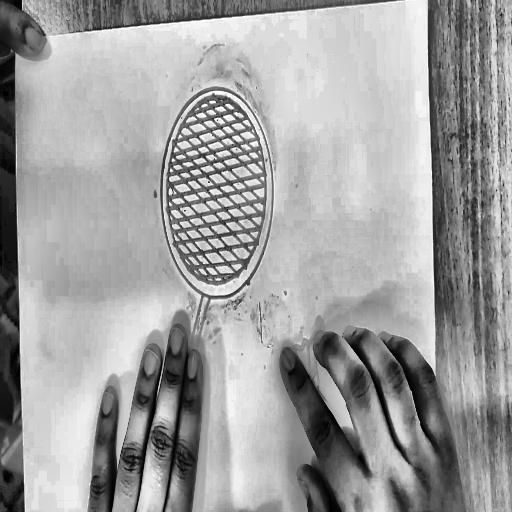badminton: (113, 65, 341, 512)
top_left: (15, 38, 20, 47)
